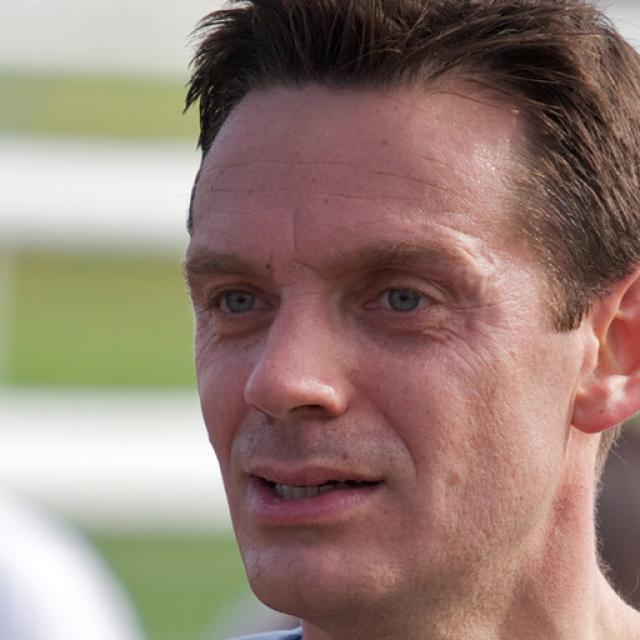0_rostro_limpio: (187, 0, 640, 615)
